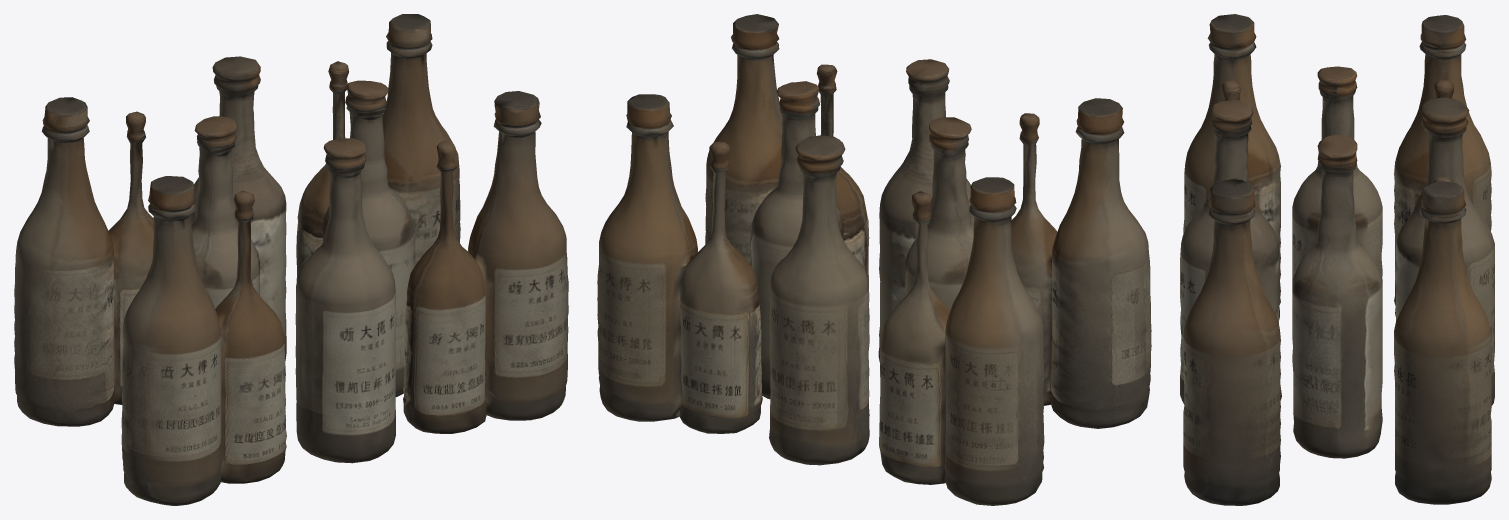
File: MedicineBottles.fbx
3 renders of one model, left to right at view 1: azimuth 30°, elevation 25°; view 2: azimuth 150°, elevation 25°; view 3: azimuth 270°, elevation 25°, orthographic.
Parts seen in each view (by area): view 1: mesh_node; view 2: mesh_node; view 3: mesh_node.
Boxes of the visible parts, box(x1,y1,x2,y2) form: mesh_node: box(14, 14, 568, 505); mesh_node: box(597, 14, 1151, 505); mesh_node: box(1180, 14, 1494, 505).
Bounding box in the file's own units: 191 × 128 × 121.
1 material, 1 textured.
